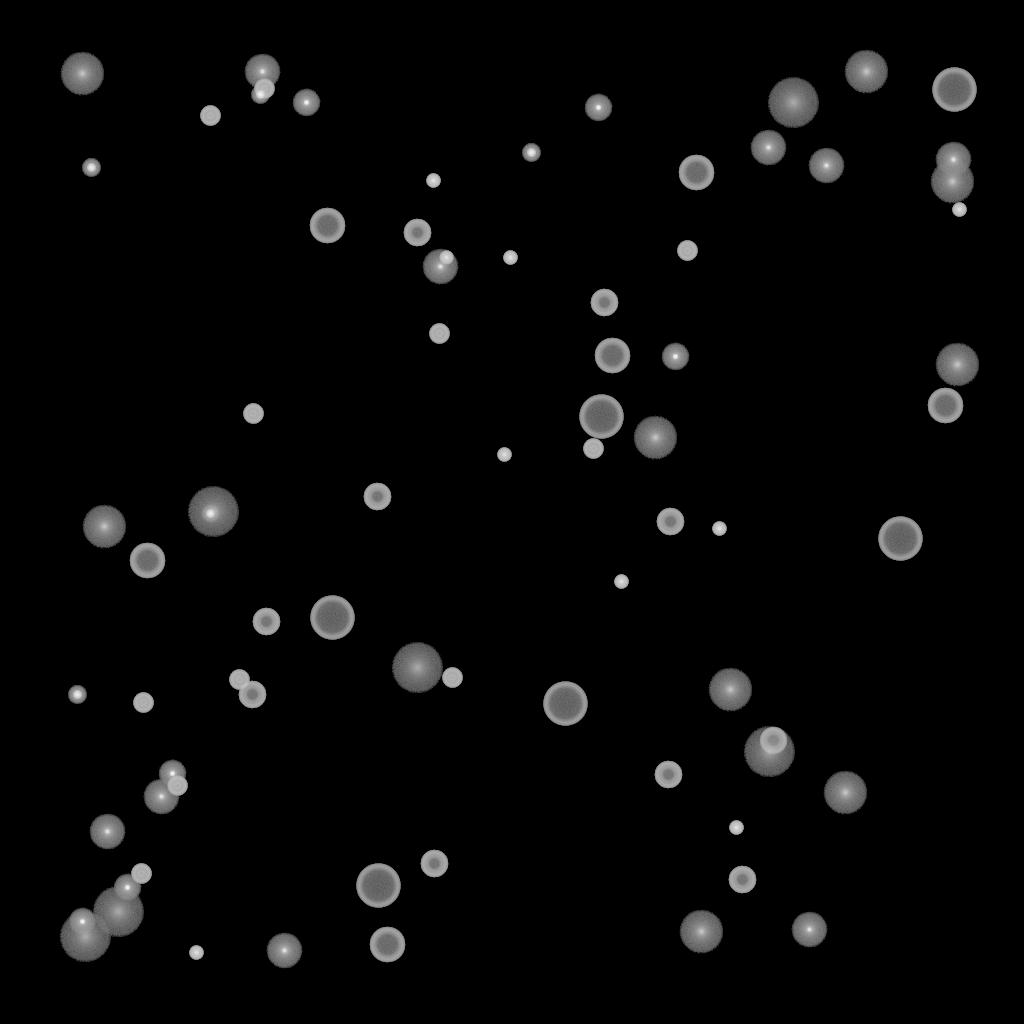depth:-10: (292, 89, 320, 117), (584, 94, 612, 122), (158, 760, 186, 788), (68, 908, 96, 936), (661, 343, 689, 371), (113, 874, 141, 902)
depth:-20: (82, 159, 100, 177), (201, 505, 219, 523), (68, 686, 86, 704), (251, 86, 269, 104), (522, 144, 540, 162)
depth:-30: (426, 174, 440, 188), (712, 522, 726, 536), (729, 821, 743, 835), (189, 946, 203, 960), (497, 448, 511, 462), (439, 251, 453, 265), (952, 203, 966, 217), (503, 251, 517, 265), (614, 575, 628, 589)
depth:-40: (429, 324, 449, 344), (677, 241, 697, 261), (131, 864, 151, 884), (200, 106, 220, 126), (229, 670, 249, 690), (583, 439, 603, 459), (243, 404, 263, 424), (254, 79, 274, 99), (167, 776, 187, 796), (133, 693, 153, 713), (442, 668, 462, 688)
depth:-50: (420, 850, 448, 878), (403, 219, 431, 247), (656, 508, 684, 536), (252, 608, 280, 636), (728, 866, 756, 894), (238, 681, 266, 709), (363, 483, 391, 511), (654, 761, 682, 789), (590, 289, 618, 317), (759, 727, 787, 755)
depth:-60: (678, 155, 714, 191), (927, 388, 963, 424), (369, 927, 405, 963), (594, 338, 630, 374), (129, 543, 165, 579), (309, 208, 345, 244)
depth:-70: (579, 395, 623, 439), (878, 517, 922, 561), (310, 596, 354, 640), (356, 864, 400, 908), (543, 682, 587, 726), (932, 68, 976, 112)
depth:0: (750, 130, 786, 166), (244, 54, 280, 90), (266, 933, 302, 969), (791, 912, 827, 948), (808, 148, 844, 184), (89, 814, 125, 850), (143, 779, 179, 815), (422, 249, 458, 285), (935, 142, 971, 178)
depth:10: (633, 416, 677, 460), (679, 910, 723, 954), (930, 160, 974, 204), (935, 343, 979, 387), (823, 771, 867, 815), (844, 50, 888, 94), (60, 52, 104, 96), (708, 668, 752, 712), (82, 505, 126, 549)
depth:20: (391, 643, 443, 693), (767, 78, 819, 128), (59, 912, 111, 962), (92, 887, 144, 937), (187, 487, 239, 537), (743, 727, 795, 777)
